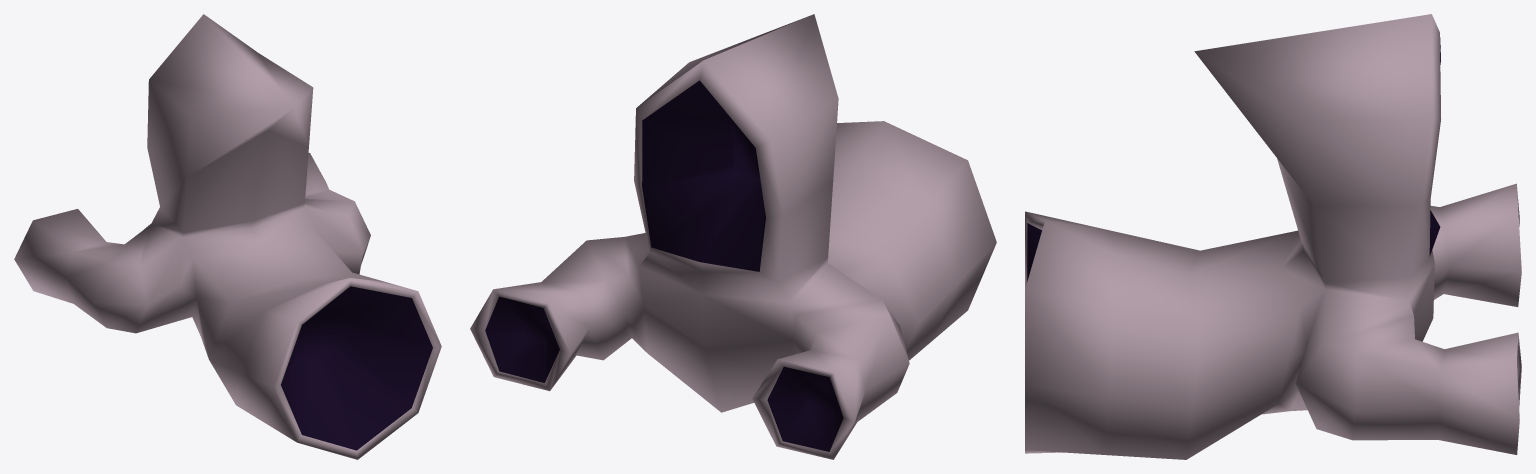
Rendered from Enemigo_Espectro.glb.
3 views of the same model, side by side, from view 1: azimuth 30°, elevation 25°; view 2: azimuth 150°, elevation 25°; view 3: azimuth 270°, elevation 25° (orthographic). The views are drawn at different scales.
Visible parts, largest first — view 1: Cube; view 2: Cube; view 3: Cube.
Part boxes in pixels (x1=…): Cube: x1=14, y1=14, x2=441, y2=459; Cube: x1=470, y1=14, x2=996, y2=459; Cube: x1=1025, y1=14, x2=1521, y2=459.
Size of the model in its own units: 1.3 by 1.33 by 1.36.
